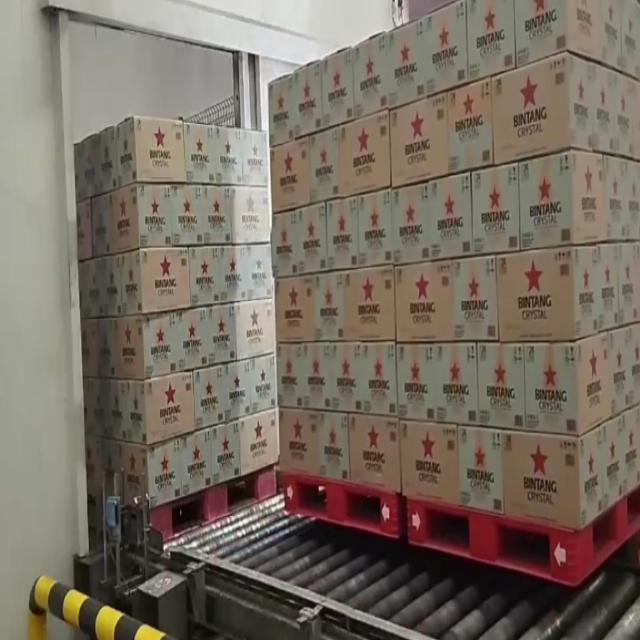pallet: (392, 0, 639, 598), (65, 82, 281, 549), (262, 9, 408, 558)
